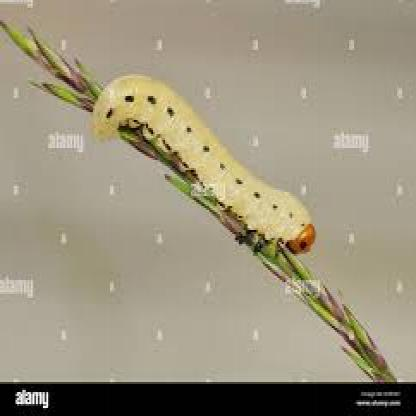sawfly: (90, 76, 324, 262)
